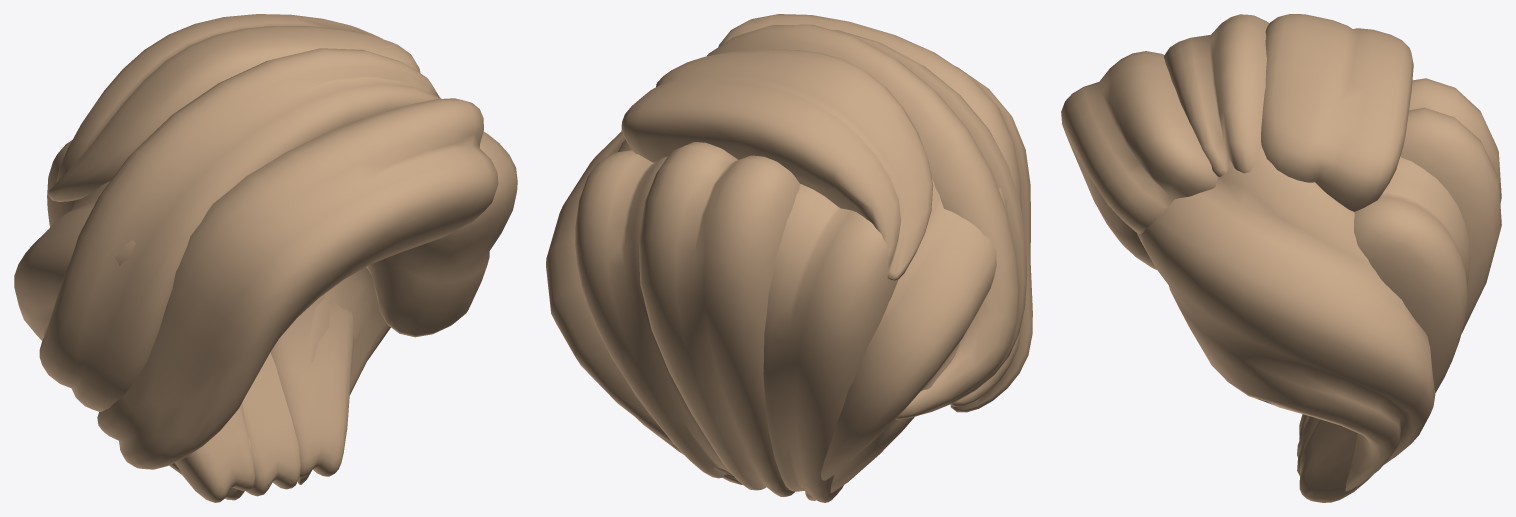
File: hair-5-f0317a7d.glb
3 renders of one model, left to right at view 1: azimuth 30°, elevation 25°; view 2: azimuth 150°, elevation 25°; view 3: azimuth 270°, elevation 25°, orthographic. The views are drawn at different scales.
Visible parts, largest first — view 1: Geo_White_Older_Female_Hair_5.001; view 2: Geo_White_Older_Female_Hair_5.001; view 3: Geo_White_Older_Female_Hair_5.001.
Part boxes in pixels (x1,y1,x2,y2): Geo_White_Older_Female_Hair_5.001: (14, 14, 517, 502); Geo_White_Older_Female_Hair_5.001: (546, 14, 1032, 502); Geo_White_Older_Female_Hair_5.001: (1061, 14, 1501, 502).
Bounding box in the file's own units: 1.96 × 1.94 × 1.75.
